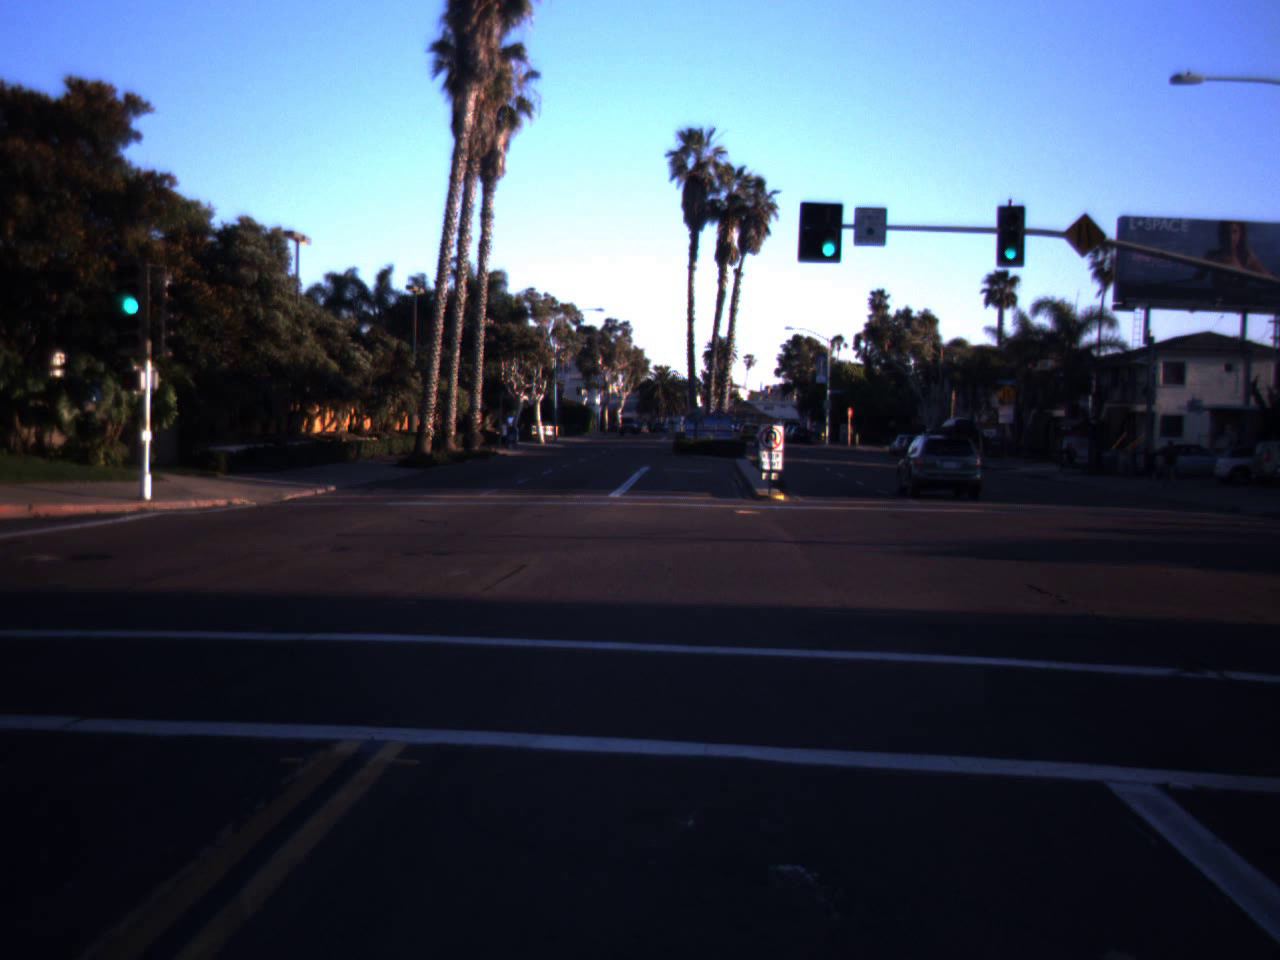go: (110, 250, 152, 320), (812, 202, 845, 262), (998, 231, 1022, 261)
